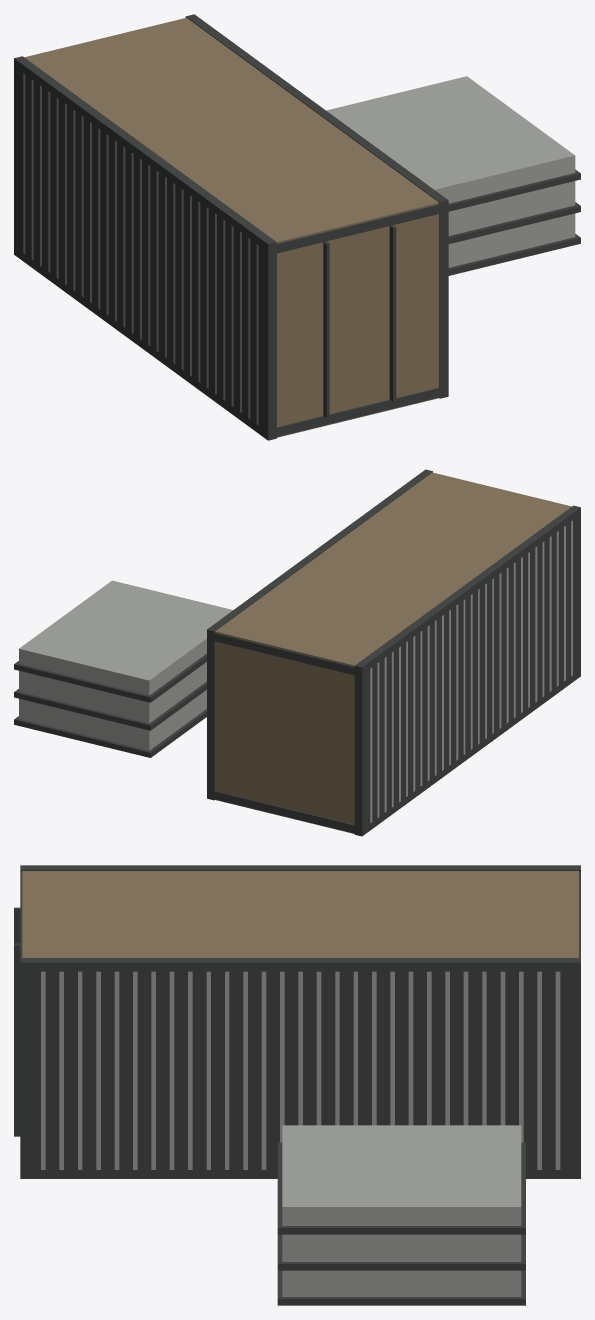
File: Scenery_FreightGroup.fbx
3 renders of one model, top to bottom at view 1: azimuth 30°, elevation 25°; view 2: azimuth 150°, elevation 25°; view 3: azimuth 270°, elevation 25°, orthographic. The views are drawn at different scales.
Visible parts, largest first — view 1: Scenery_FreightGroup_LOD0; view 2: Scenery_FreightGroup_LOD0; view 3: Scenery_FreightGroup_LOD0.
Part boxes in pixels (bbox=[...]): Scenery_FreightGroup_LOD0: bbox=[14, 14, 580, 440]; Scenery_FreightGroup_LOD0: bbox=[14, 469, 580, 836]; Scenery_FreightGroup_LOD0: bbox=[14, 865, 580, 1305].
Size of what is drawn, in the model's own units: 5.95 by 2.6 by 6.17.
